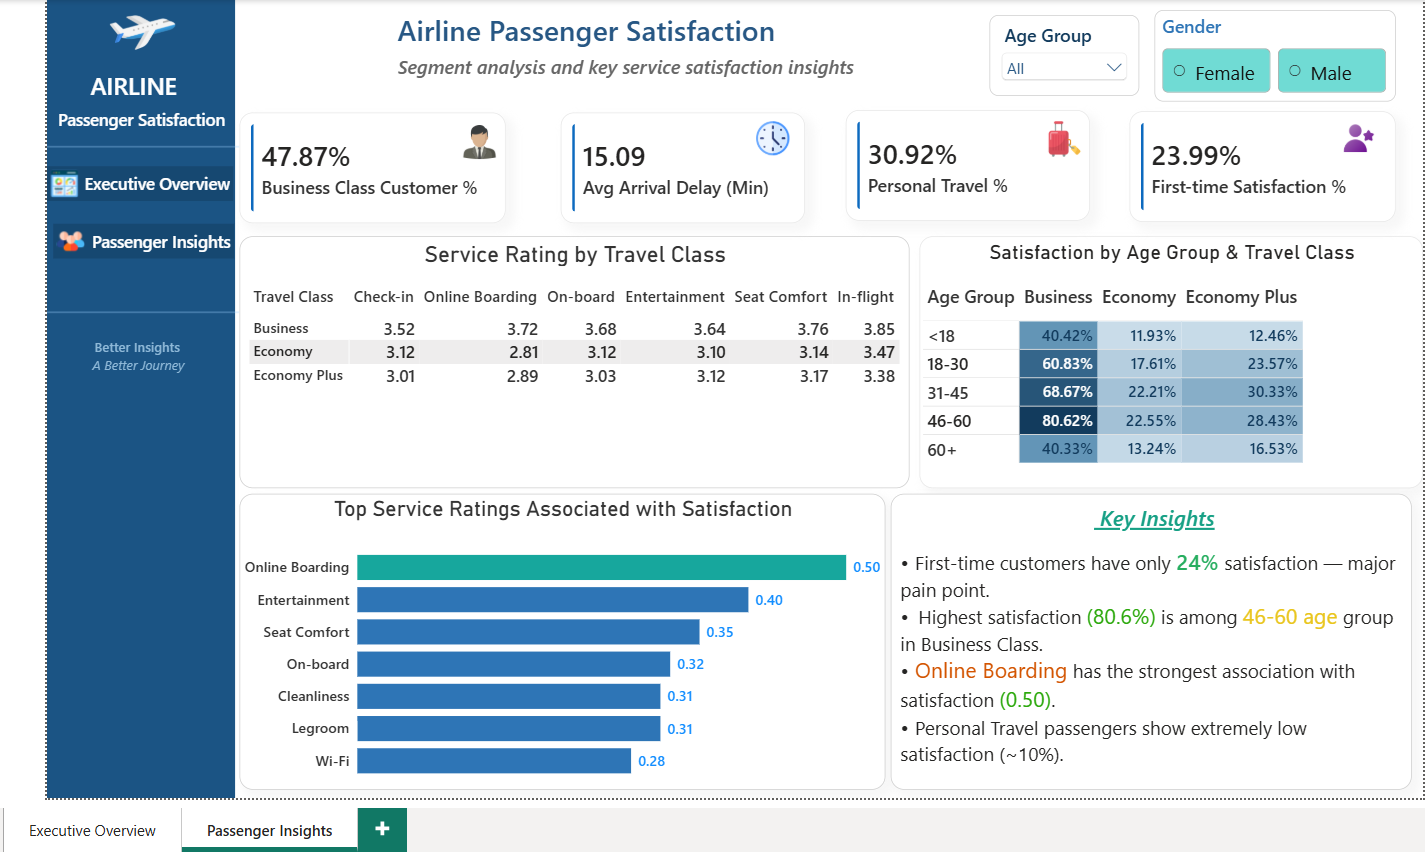

What the dashboard file says about the page in this screenshot:
{"tool":"powerbi","page":{"name":"Passenger Insights","canvas":[1550,900],"ordinal":1},"visuals":[{"type":"cardVisual","fields":{"Data":["_Measures.Business Class %"]},"box":[217,126.8,300,125],"z":0},{"type":"pivotTable","title":"Satisfaction by Age Group & Travel Class","fields":{"Rows":["airline_satisfaction.Age_Group"],"Columns":["airline_satisfaction.travel_class"],"Values":["_Measures.satisfaction Rate"]},"box":[982.9,266,567.1,284],"z":1000},{"type":"cardVisual","fields":{"Data":["_Measures.Fist-time Customer Satisfaction %"]},"box":[1220.1,125.4,300,125],"z":2000},{"type":"textbox","box":[317,7,690.4,91.6],"z":3000},{"type":"shape","box":[0,0,212,900.3],"z":4000},{"type":"textbox","box":[0,73.4,216,81],"z":5000},{"type":"shape","box":[0,143.1,216.5,43.3],"z":6000},{"type":"actionButton","box":[0,187.4,210,39.5],"z":7000},{"type":"actionButton","box":[7,252.2,204,39.4],"z":8000},{"type":"shape","box":[0,330.2,216.5,44.6],"z":9000},{"type":"textbox","box":[14,375.8,202.5,59.9],"z":10000},{"type":"image","box":[49.7,0,117.2,73.9],"z":11000},{"type":"slicer","fields":{"Values":["airline_satisfaction.Age_Group"]},"box":[1062.3,16.9,169.1,91.4],"z":12000},{"type":"advancedSlicerVisual","title":"Gender","fields":{"Values":["airline_satisfaction.gender"]},"box":[1248.3,11.3,271.9,102.8],"z":13000},{"type":"clusteredBarChart","title":"Top Service Ratings Associated with Satisfaction","fields":{"Category":["Correlated_Table.service"],"Y":["Sum(Correlated_Table.correlation)"]},"box":[217.1,556.4,728,333.2],"z":14000},{"type":"pivotTable","title":"Service Rating by Travel Class","fields":{"Rows":["airline_satisfaction.travel_class"],"Values":["_Measures.Check-in","_Measures.Online Boarding","_Measures.On-board","_Measures.Entertainment","_Measures.Seat Comfort","_Measures.In-flight"]},"box":[217,266.3,755.2,284],"z":15000},{"type":"cardVisual","fields":{"Data":["_Measures.Avg Arrival Delay"]},"box":[579.1,126.8,275,125],"z":16000},{"type":"cardVisual","fields":{"Data":["_Measures.Personal Travel %"]},"box":[900.3,123.8,275,125],"z":17000},{"type":"image","box":[796.4,136,44,38.2],"z":18000},{"type":"textbox","box":[950.8,556.4,587,333.2],"z":19000},{"type":"image","box":[463.1,140.6,48,38],"z":20000},{"type":"image","box":[1122.9,136.7,48,40],"z":21000},{"type":"image","box":[1452.1,136,52,38.2],"z":22000}]}

Visuals, with their boxes on the page's 1550x900 design canvas (x1, y1, x2, y2). These are canvas units, not pixel positions in the 1425x852 screenshot, which may show the page scaled, cropped or inside an application window:
cardVisual - _Measures.Business Class %: left=217, top=127, right=517, bottom=252
"Satisfaction by Age Group & Travel Class" pivotTable: left=983, top=266, right=1550, bottom=550
cardVisual - _Measures.Fist-time Customer Satisfaction %: left=1220, top=125, right=1520, bottom=250
textbox: left=317, top=7, right=1007, bottom=99
shape: left=0, top=0, right=212, bottom=900
textbox: left=0, top=73, right=216, bottom=154
shape: left=0, top=143, right=216, bottom=186
actionButton: left=0, top=187, right=210, bottom=227
actionButton: left=7, top=252, right=211, bottom=292
shape: left=0, top=330, right=216, bottom=375
textbox: left=14, top=376, right=216, bottom=436
image: left=50, top=0, right=167, bottom=74
slicer - airline_satisfaction.Age_Group: left=1062, top=17, right=1231, bottom=108
"Gender" advancedSlicerVisual: left=1248, top=11, right=1520, bottom=114
"Top Service Ratings Associated with Satisfaction" clusteredBarChart: left=217, top=556, right=945, bottom=890
"Service Rating by Travel Class" pivotTable: left=217, top=266, right=972, bottom=550
cardVisual - _Measures.Avg Arrival Delay: left=579, top=127, right=854, bottom=252
cardVisual - _Measures.Personal Travel %: left=900, top=124, right=1175, bottom=249
image: left=796, top=136, right=840, bottom=174
textbox: left=951, top=556, right=1538, bottom=890
image: left=463, top=141, right=511, bottom=179
image: left=1123, top=137, right=1171, bottom=177
image: left=1452, top=136, right=1504, bottom=174
